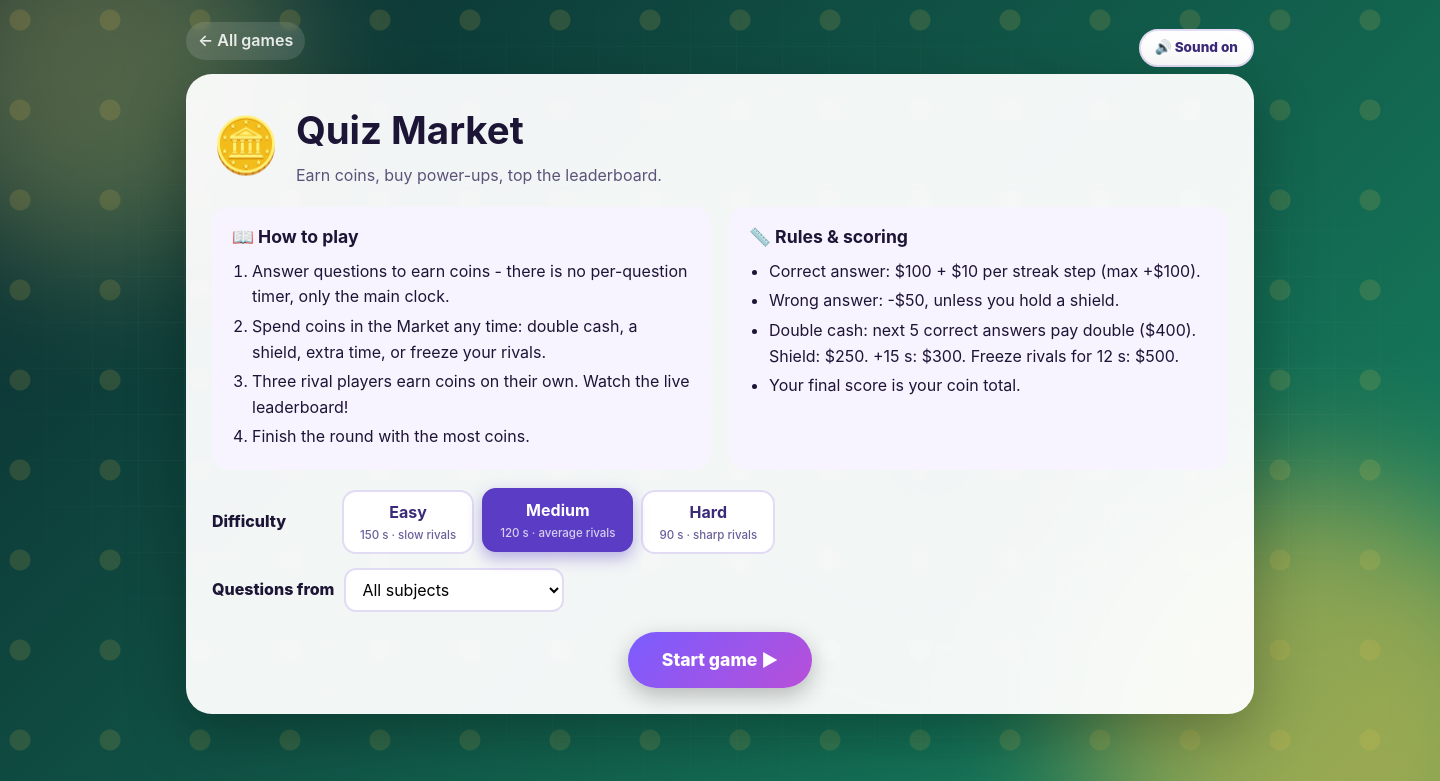
Scenario: quiz games › Quiz Market: correct answers earn coins and the market is open
Click the radio button labelled "Easy 150 s · slow rivals": (408, 522) [342, 490, 474, 554]
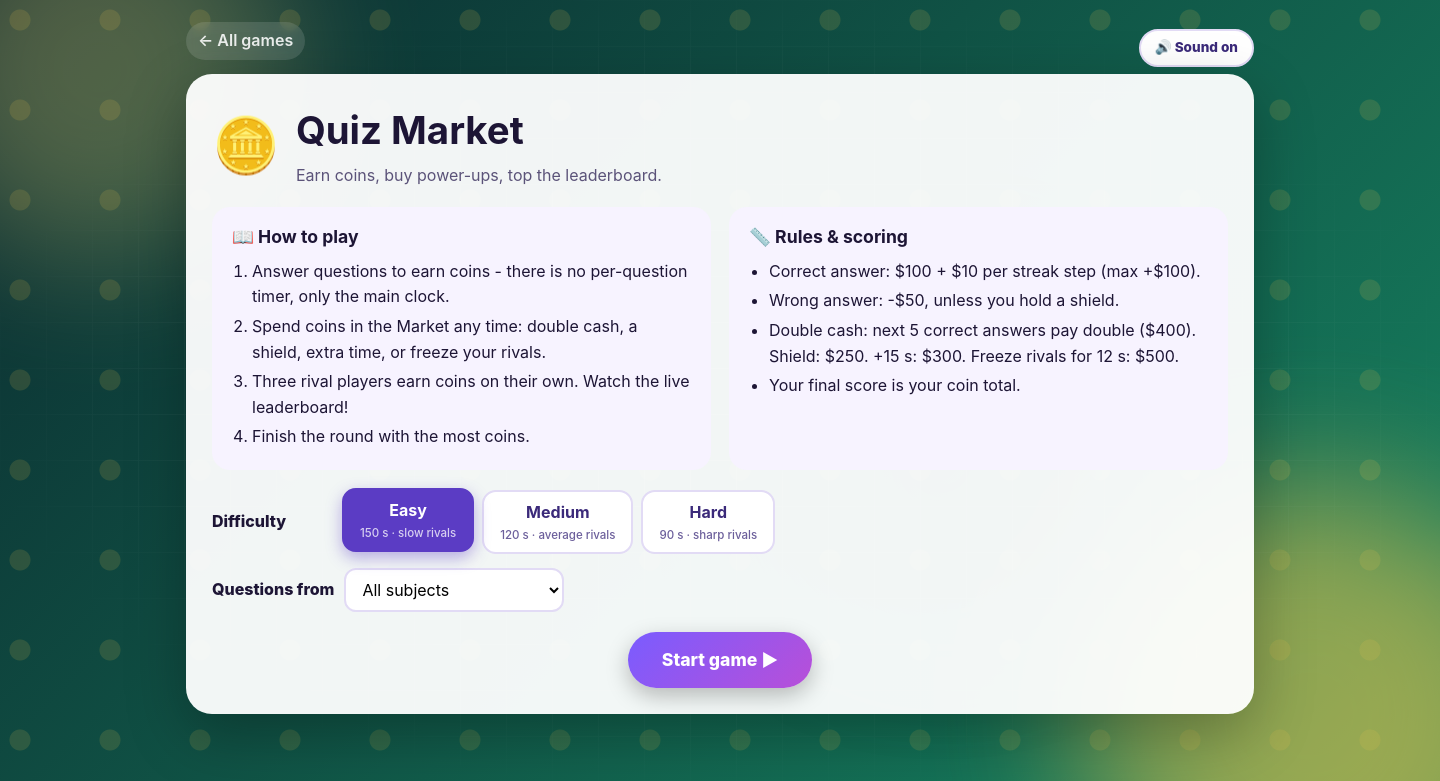
Click the button "Start game ▶": (720, 660) [628, 632, 812, 688]
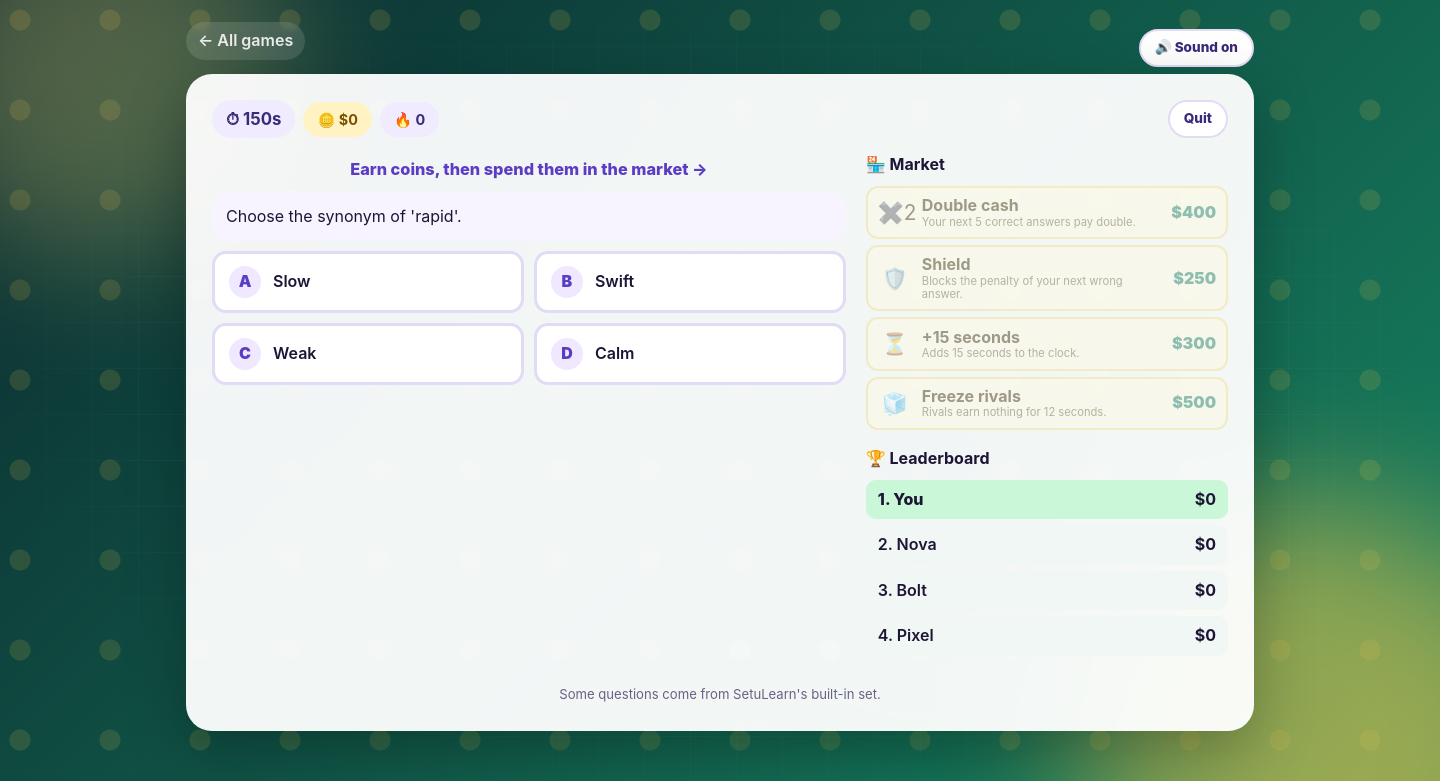
Check: the element showing "Choose the synonym of 'rapid'." is shown, box [212, 192, 846, 241]
Check: the heading "🏪 Market" is shown, box [866, 154, 945, 174]
Click the button "B Swift": (567, 282) [534, 251, 846, 313]
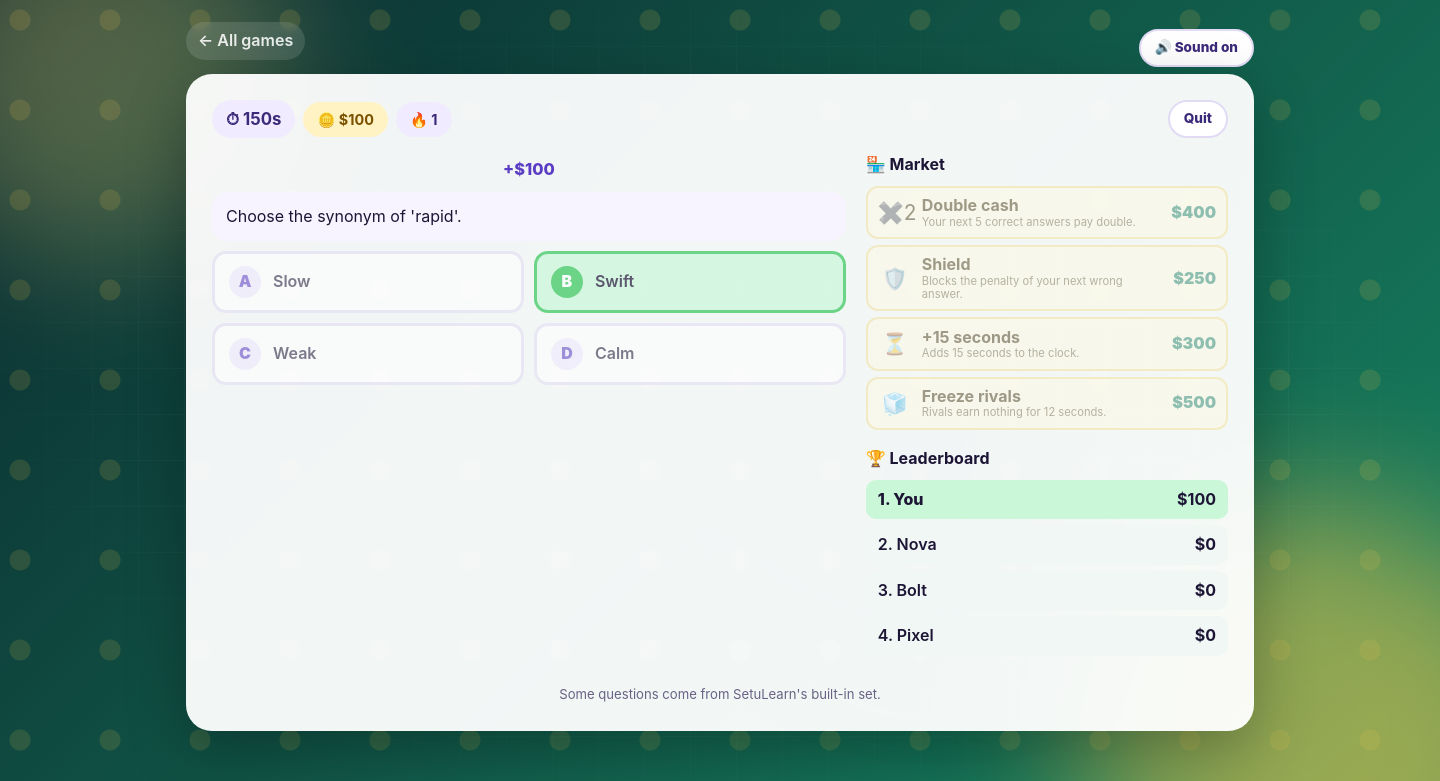
Check: the button "🛡️ Shield Blocks the penalty of your next wrong answer. $250" is disabled, box [866, 245, 1228, 311]
Check: the text "🪙 $100" is shown, box [304, 102, 388, 136]
